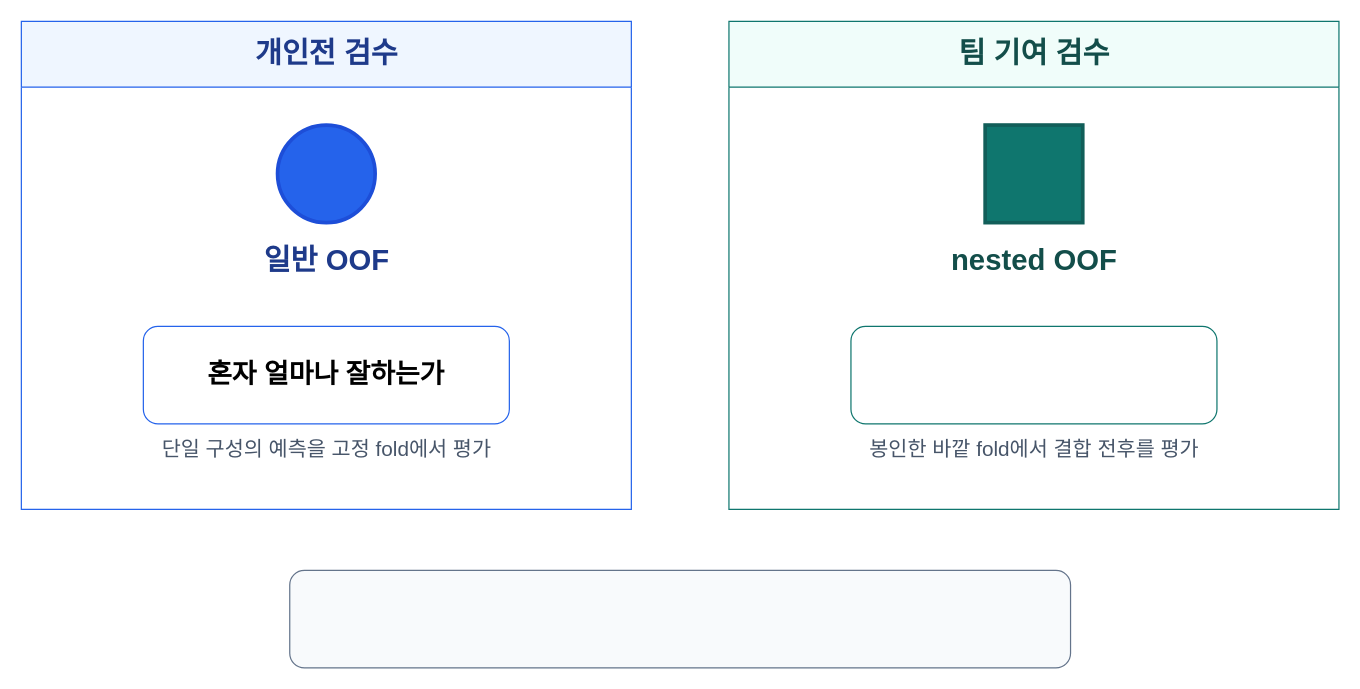
This 1360x689 diagram has some shape labels left out. The shapes that lost their labels are listed below. From the top down, each one's centre as x and y in pixels, then its label:
At point 1033,374: "함께할 때 얼마나 돕는가".
At point 680,618: "두 결과는 서로 대신하지 않고 따로 기록합니다.".
